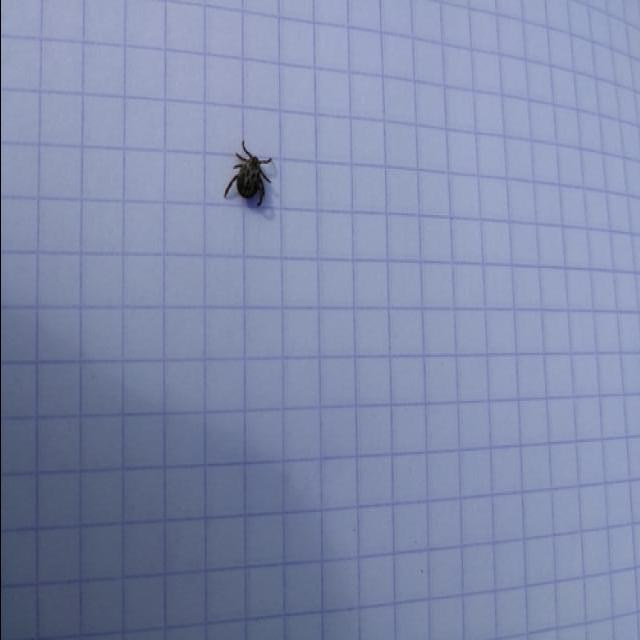Dermacentor Reticulatus-M: (224, 142, 270, 218)
